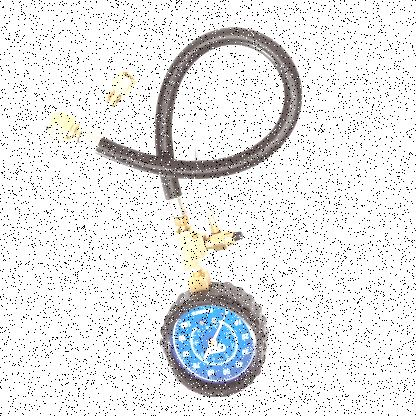needle: (212, 312, 228, 340)
